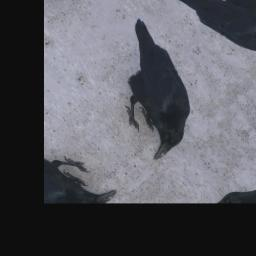Crow: (72, 16, 222, 162)
